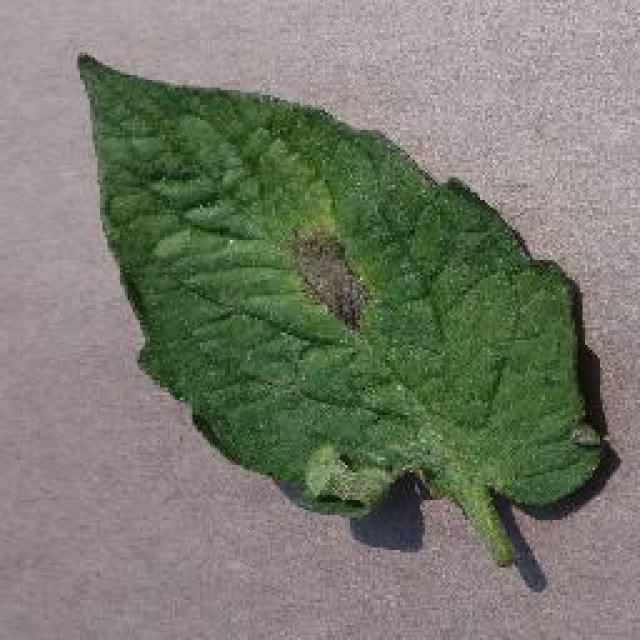Tomato Late Blight: (273, 195, 387, 353)
